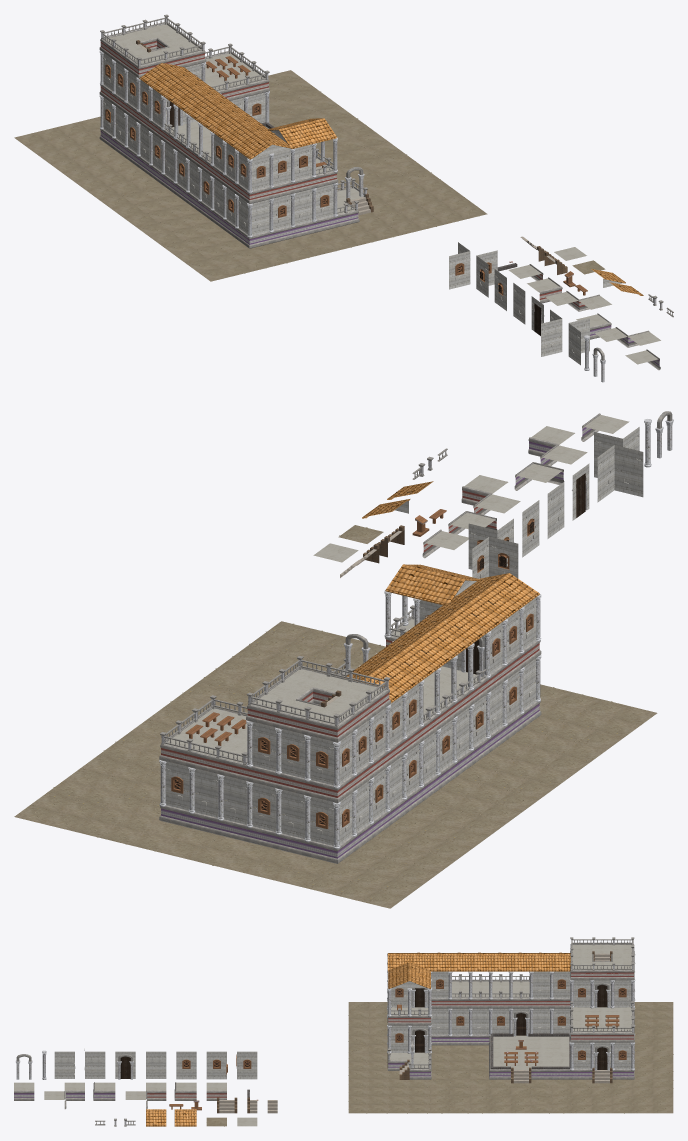
Rendered from Alan_Higgs_Greek_Library_ScenicView.fbx.
3 renders of one model, top to bottom at view 1: azimuth 30°, elevation 25°; view 2: azimuth 150°, elevation 25°; view 3: azimuth 270°, elevation 25°, orthographic. The views are drawn at different scales.
Parts seen in each view (by area): view 1: Marble_Floor12, Brick_Wall_Outer_Corner, Brick_Wall_Window_Outer_Corner, Brick_Wall_Window_Inner_Corner, Brick_Wall_Inner_Corner, MarbleFloor_Red_Inner_Corner, MarbleFloor_Purple_Inner_Corner; view 2: Marble_Floor12, Brick_Wall_Outer_Corner, Brick_Wall_Window_Outer_Corner, MarbleFloor_Red_Inner_Corner, MarbleFloor_Purple_Inner_Corner, MarbleFloor_Purple_Outer_Corner, Brick_Wall_Window_Inner_Corner, Archway, Brick_Wall_Inner_Corner, Brick_Wall_Window, Brick_Wall; view 3: Marble_Floor12, Brick_Wall_Window_Outer_Corner, Brick_Wall_Window_Inner_Corner, Brick_Wall_Window, MarbleFloor_Red_Inner_Corner, MarbleFloor_Purple_Inner_Corner, Brick_Wall_Outer_Corner, Archway, Brick_Wall_Inner_Corner, Brick_Wall, MarbleFloor_Purple_Outer_Corner, MarbleFloor_Red_Outer_Corner (+5 smaller).
Boxes of the visible parts, box(x1,y1,x2,y2) form: Marble_Floor12: box(14, 14, 487, 281); Brick_Wall_Outer_Corner: box(541, 309, 562, 356); Brick_Wall_Window_Outer_Corner: box(449, 242, 470, 289); Brick_Wall_Window_Inner_Corner: box(476, 250, 497, 297); Brick_Wall_Inner_Corner: box(568, 318, 589, 365); MarbleFloor_Red_Inner_Corner: box(545, 291, 611, 311); MarbleFloor_Purple_Inner_Corner: box(595, 327, 660, 347); Marble_Floor12: box(14, 564, 657, 908); Brick_Wall_Outer_Corner: box(597, 445, 643, 502); Brick_Wall_Window_Outer_Corner: box(472, 536, 518, 578); MarbleFloor_Red_Inner_Corner: box(461, 475, 520, 514); MarbleFloor_Purple_Inner_Corner: box(528, 426, 587, 465); MarbleFloor_Purple_Outer_Corner: box(514, 462, 564, 490); Brick_Wall_Window_Inner_Corner: box(468, 518, 513, 569); Archway: box(572, 463, 589, 520); Brick_Wall_Inner_Corner: box(594, 427, 639, 477); Brick_Wall_Window: box(522, 500, 539, 557); Brick_Wall: box(547, 482, 564, 538); Marble_Floor12: box(348, 937, 673, 1113); Brick_Wall_Window_Outer_Corner: box(236, 1051, 257, 1079); Brick_Wall_Window_Inner_Corner: box(206, 1051, 227, 1079); Brick_Wall_Window: box(176, 1051, 196, 1079); MarbleFloor_Red_Inner_Corner: box(125, 1082, 166, 1109); MarbleFloor_Purple_Inner_Corner: box(44, 1082, 84, 1109); Brick_Wall_Outer_Corner: box(84, 1048, 105, 1078); Archway: box(115, 1051, 135, 1079); Brick_Wall_Inner_Corner: box(54, 1051, 75, 1078); Brick_Wall: box(146, 1051, 166, 1078); MarbleFloor_Purple_Outer_Corner: box(93, 1082, 115, 1100); MarbleFloor_Red_Outer_Corner: box(174, 1082, 196, 1100).
Size of the model in its own units: 14.57 by 4.89 by 32.53.
